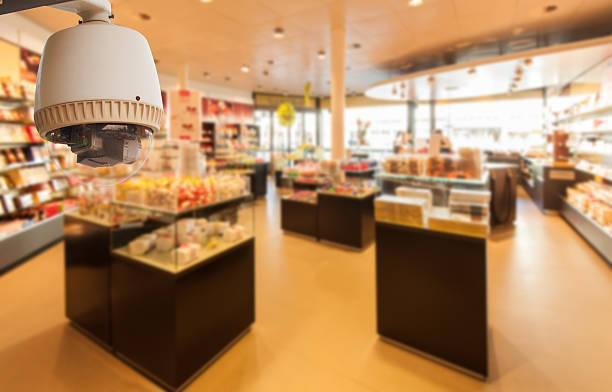camera: (10, 10, 186, 201)
